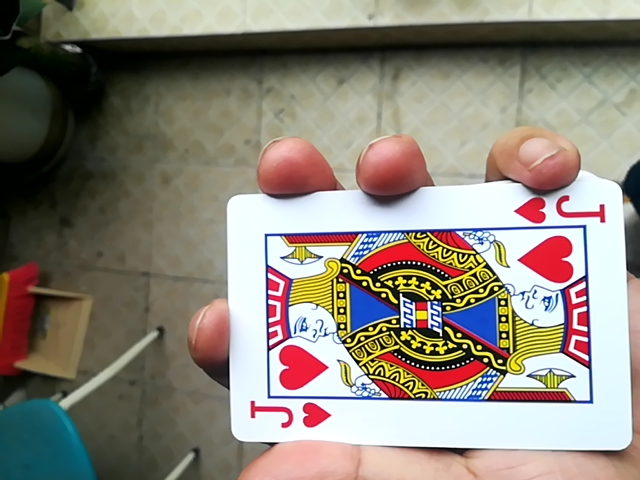hx j: (228, 184, 636, 450)
